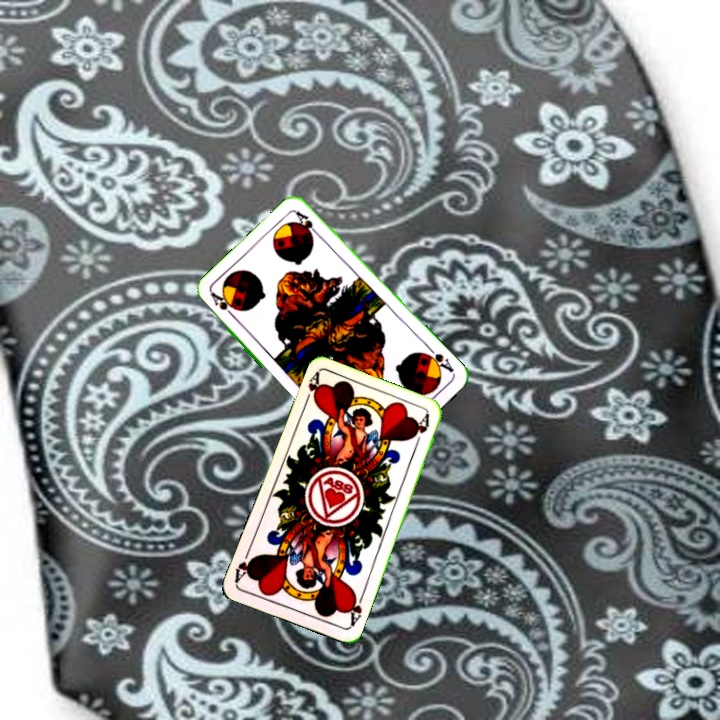HA: (344, 588, 367, 629), (300, 369, 323, 409)
SA: (420, 343, 457, 375), (207, 288, 239, 322)
